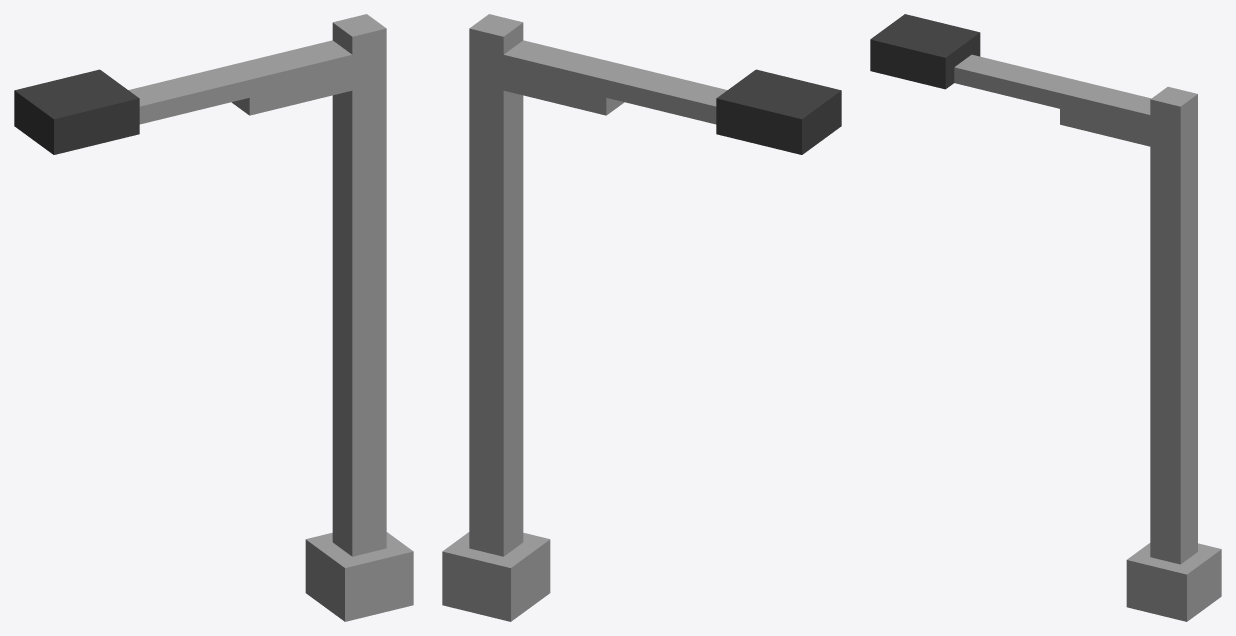
The model's file is obj_stlight2.obj.
3 views of the same model, side by side, from view 1: azimuth 30°, elevation 25°; view 2: azimuth 150°, elevation 25°; view 3: azimuth 330°, elevation 25° (orthographic). The views are drawn at different scales.
Bounding box in the file's own units: 2.1 × 3.2 × 0.4.
1 material, 1 textured.
